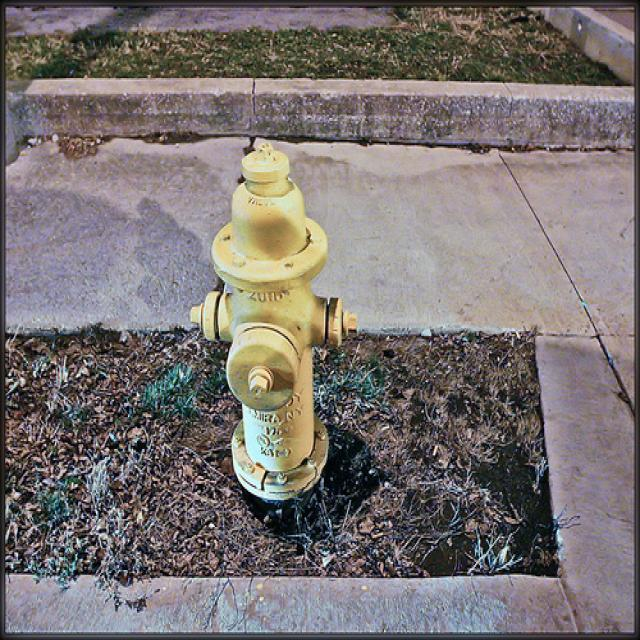fire_hydrant: (190, 143, 350, 511)
